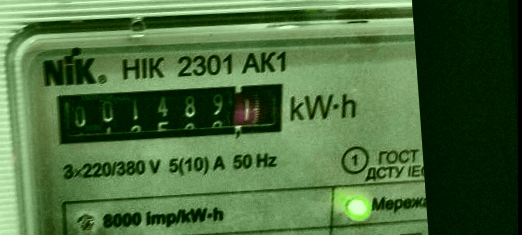0: (97, 96, 115, 122), (71, 102, 87, 128)
1: (126, 93, 142, 123), (238, 91, 252, 122)
4: (153, 92, 171, 119)
8: (179, 90, 198, 118)
9: (208, 90, 225, 116)
screen: (40, 67, 301, 161)
